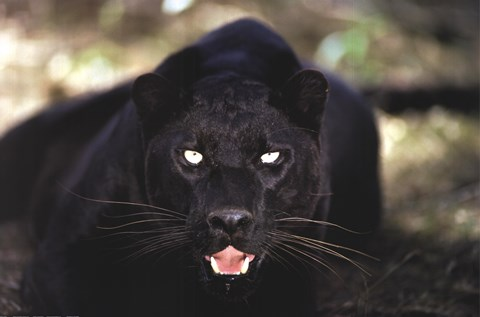panther: (2, 16, 393, 317)
